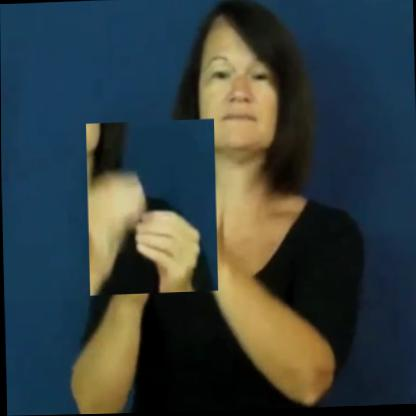Fix: (85, 119, 217, 296)
